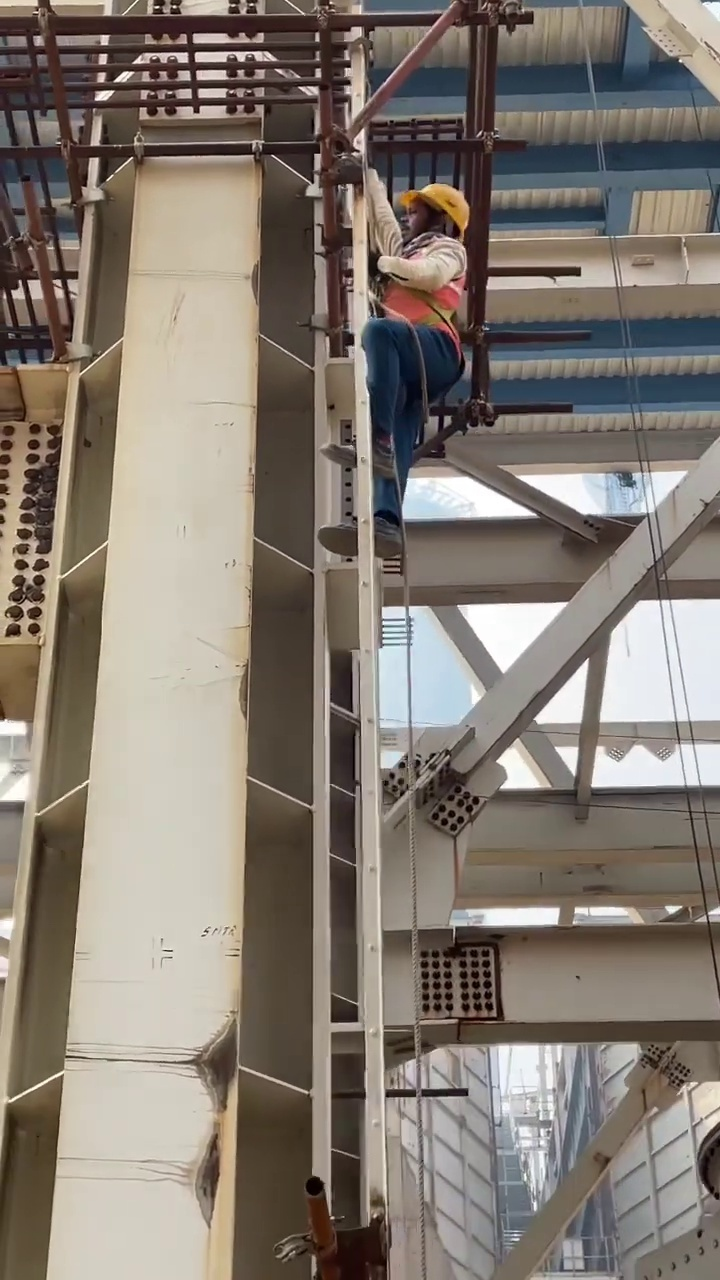Helmet: (404, 180, 471, 227)
Person: (309, 180, 474, 567)
Safety_Harness: (379, 242, 468, 408)
Safety_shoes: (314, 517, 401, 563), (323, 431, 395, 472)
